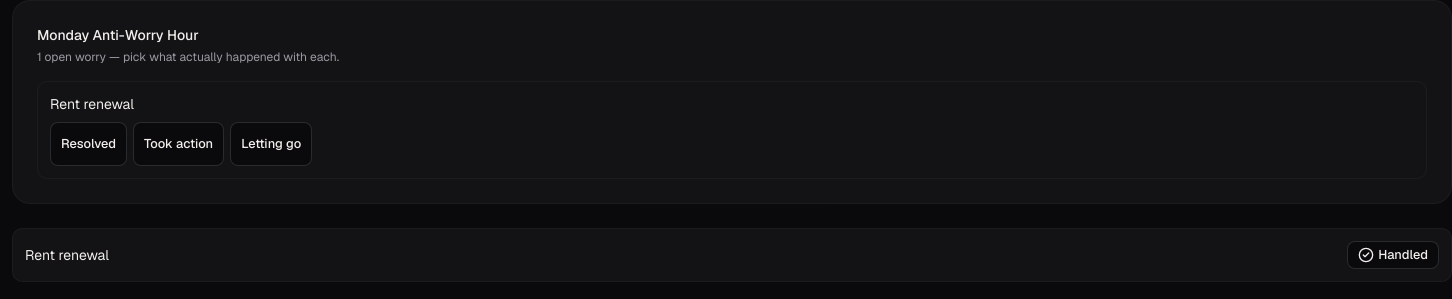
Test: WorriesPageClient (P2-12) › shows the panel on Mondays, and picking an outcome there moves the worry to Handled AND removes it from the plain open list too — same shared state, not two out
The width and height of the screenshot is (1452, 299).
expect the text "Monday Anti-Worry Hour" is shown: met, box 37,25 -> 199,45
expect the text "Rent renewal" is shown 2 times: met, box 50,95 -> 134,113; 25,246 -> 109,264
Click the button "Took action" at (179, 144), box 133,122 -> 224,166
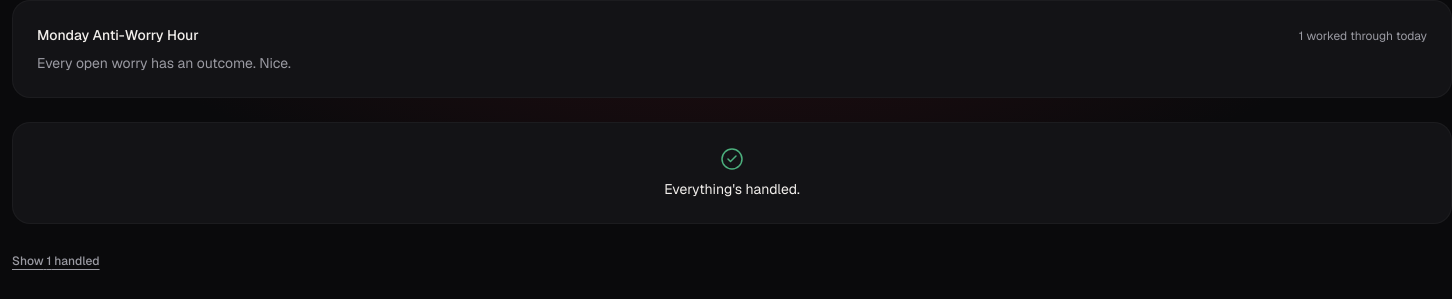
expect the text "Every open worry has an outcome. Nice." is shown: met, box 37,54 -> 291,72
expect the text "Everything's handled." is shown: met, box 664,180 -> 800,198
expect the text "1 worked through today" is shown: met, box 1299,28 -> 1427,44
